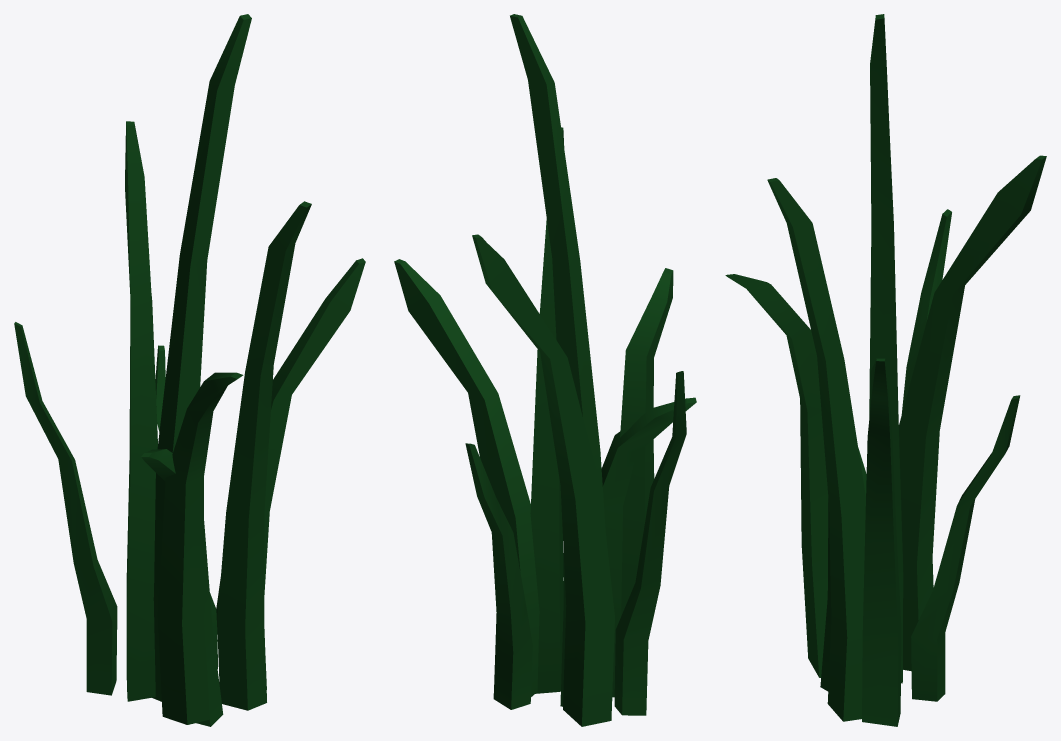
The model's file is Grass9.fbx.
3 renders of one model, left to right at view 1: azimuth 30°, elevation 25°; view 2: azimuth 150°, elevation 25°; view 3: azimuth 270°, elevation 25°, orthographic. The views are drawn at different scales.
Visible parts, largest first — view 1: Grass3; view 2: Grass3; view 3: Grass3.
Part boxes in pixels (x1,y1,x2,y2): Grass3: (14,14,365,726); Grass3: (394,14,696,726); Grass3: (725,14,1046,726).
Bounding box in the file's own units: 1.12 × 2.26 × 0.9357.
